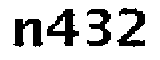2: (116, 4, 151, 49)
3: (85, 5, 114, 49)
4: (44, 6, 79, 48)
n: (9, 16, 44, 49)
